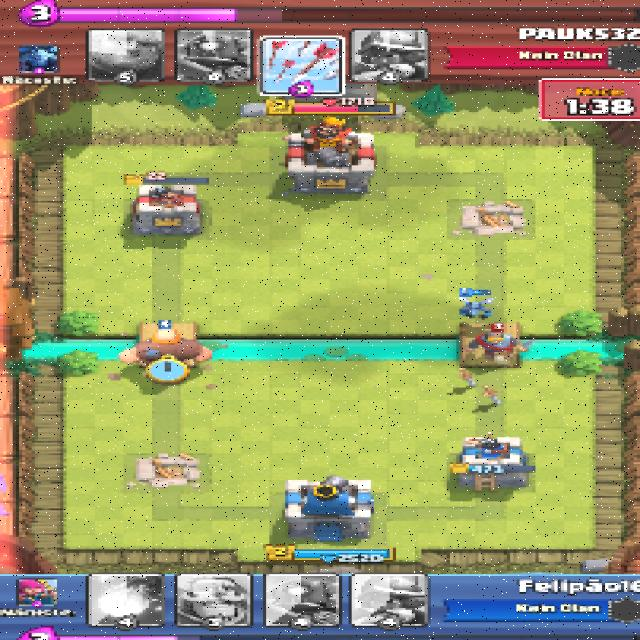Enemy-Knight: (467, 332, 528, 360)
Player-Giant: (115, 330, 210, 368)
Player-Minion: (454, 301, 493, 318)
